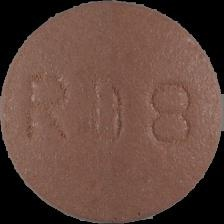0615-6579: (0, 0, 224, 224)
